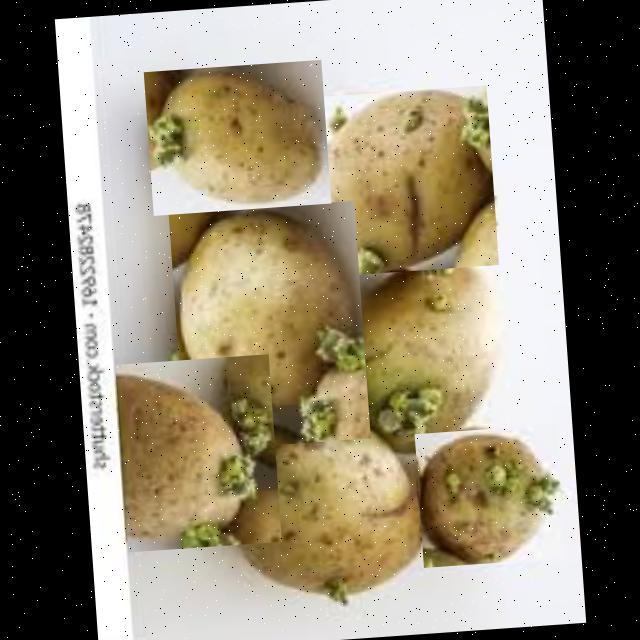Sprouted potato: (168, 200, 370, 450), (225, 416, 440, 607), (294, 84, 498, 277), (330, 257, 520, 459), (115, 353, 282, 551), (143, 59, 331, 214), (414, 422, 565, 566)
